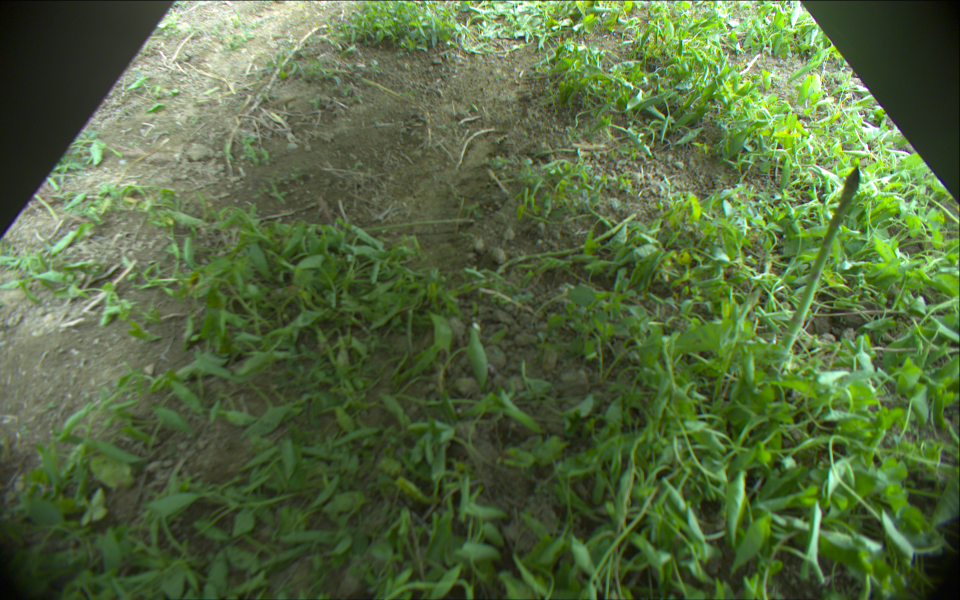aspa: (775, 166, 860, 372)
